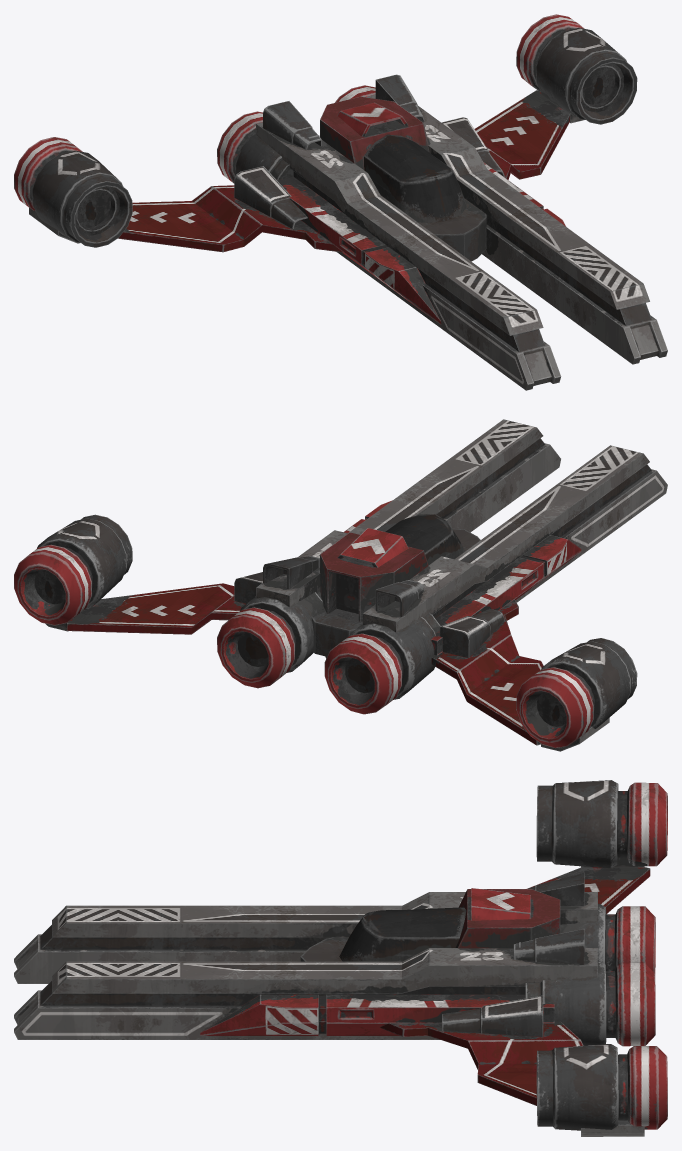
Rendered from executioner.glb.
The picture shows the model from 3 angles, top to bottom: view 1: azimuth 30°, elevation 25°; view 2: azimuth 150°, elevation 25°; view 3: azimuth 270°, elevation 25°; orthographic projection. The views are drawn at different scales.
Visible parts, largest first — view 1: Executioner; view 2: Executioner; view 3: Executioner.
Boxes of the visible parts, x1,y1,x2,y2 form: Executioner: (14,14,667,390); Executioner: (14,419,667,751); Executioner: (14,780,667,1136).
Size of the model in its own units: 10.02 by 1.85 by 9.2.
1 material, 1 textured.
